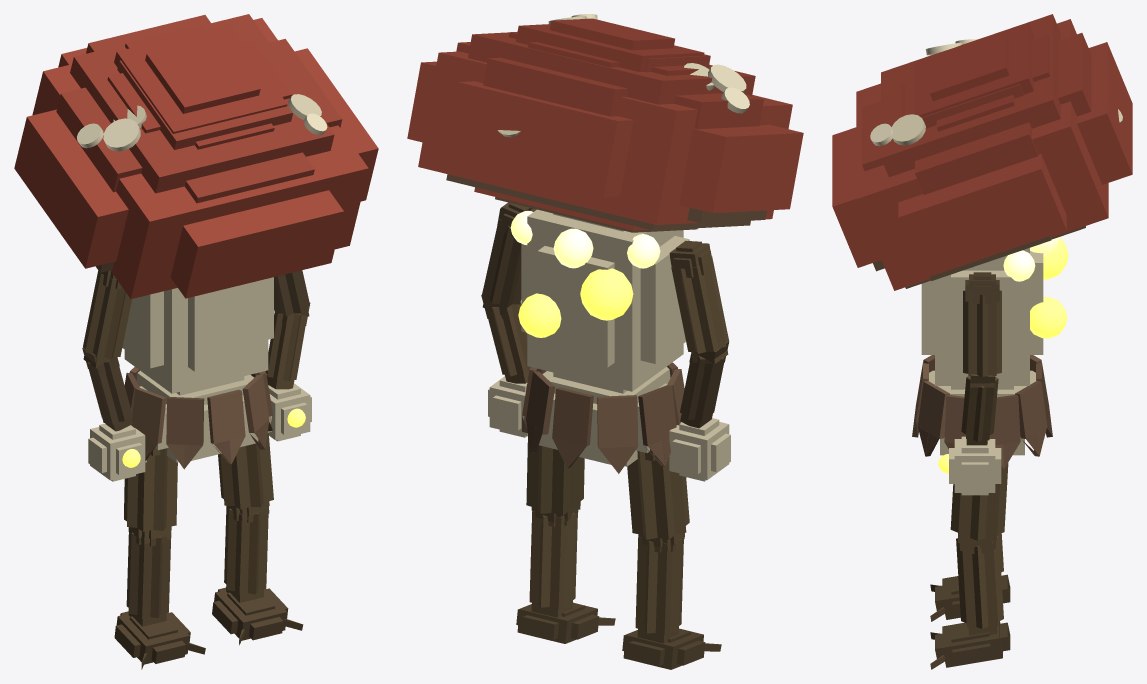
The picture shows the model from 3 angles, left to right: view 1: azimuth 30°, elevation 25°; view 2: azimuth 150°, elevation 25°; view 3: azimuth 270°, elevation 25°; orthographic projection. The views are drawn at different scales.
Visible parts, largest first — view 1: SporeSpitter; view 2: SporeSpitter; view 3: SporeSpitter.
Part boxes in pixels (box(x1,y1,x2,y2)): SporeSpitter: box(14, 14, 378, 669); SporeSpitter: box(407, 14, 803, 669); SporeSpitter: box(832, 14, 1132, 669).
Size of the model in its own units: 0.7423 by 1.47 by 0.6835.
